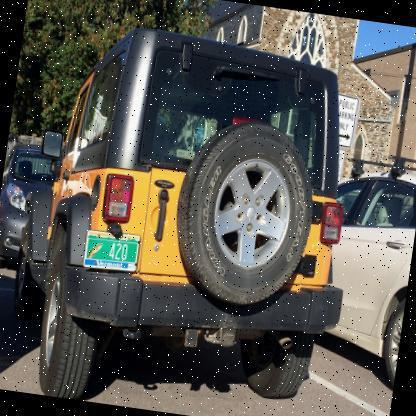License-Plate: (82, 228, 141, 272)
